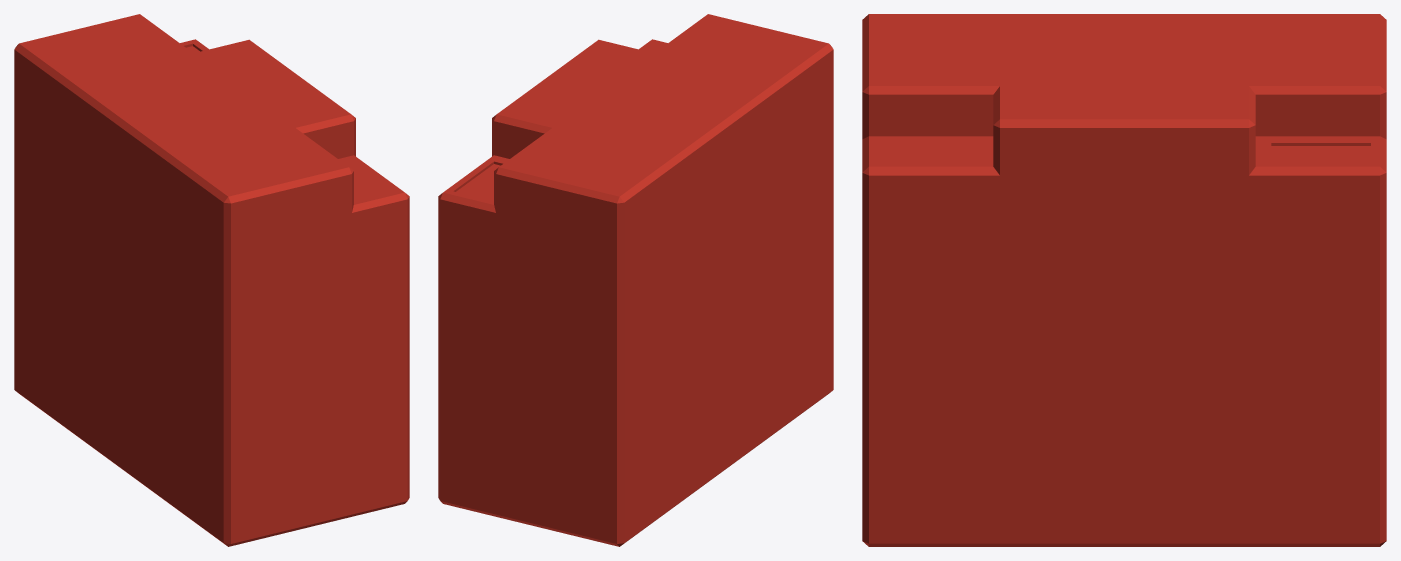
The model's file is frc battery v2.fbx.
3 views of the same model, side by side, from view 1: azimuth 30°, elevation 25°; view 2: azimuth 150°, elevation 25°; view 3: azimuth 270°, elevation 25° (orthographic). The views are drawn at different scales.
Parts seen in each view (by area): view 1: Body1; view 2: Body1; view 3: Body1.
Boxes of the visible parts, bbox=[...] form: Body1: bbox=[14, 14, 409, 546]; Body1: bbox=[438, 14, 833, 546]; Body1: bbox=[862, 14, 1386, 546].
Size of the model in its own units: 5 by 9 by 10.
